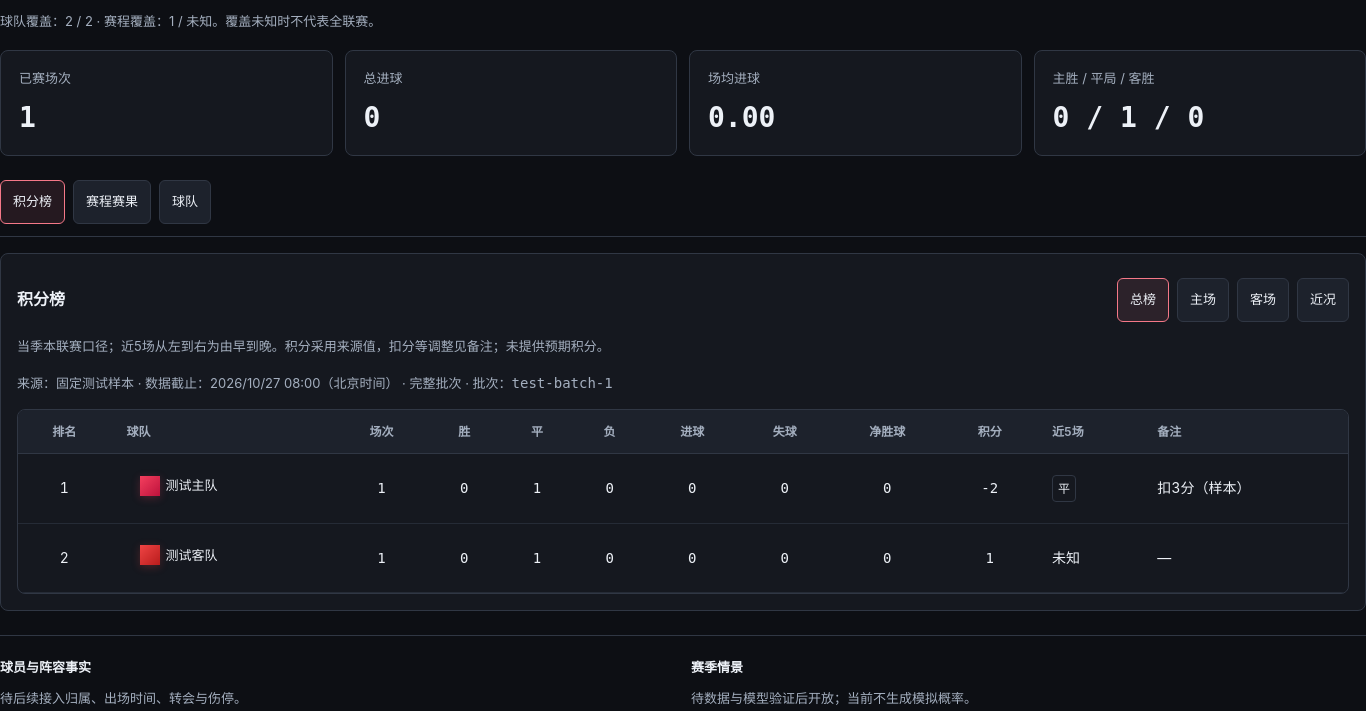
Scenario: LeagueCenter integration (isolated fixed samples only) › opens the same-season team subview and scopes the fixture request
(page scrolled)
Click the button with aria-label "查看球队 测试主队" at point(178, 489), box [126,466,230,511]
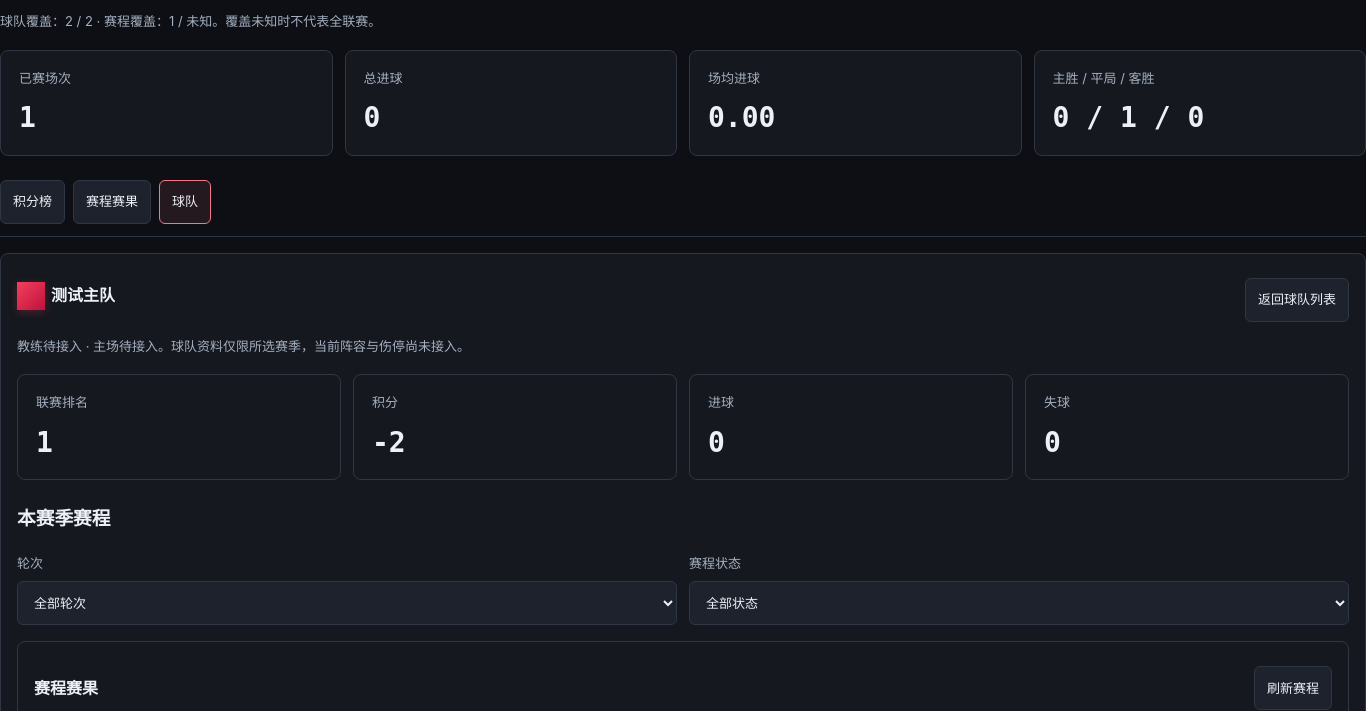
Expected: the text "教练待接入" is shown, [17,338,82,354]
Expected: the heading "测试主队" is shown, [17,282,115,318]
Click the button "返回球队列表" at point(1297, 300), box [1245,278,1349,322]
(page scrolled)
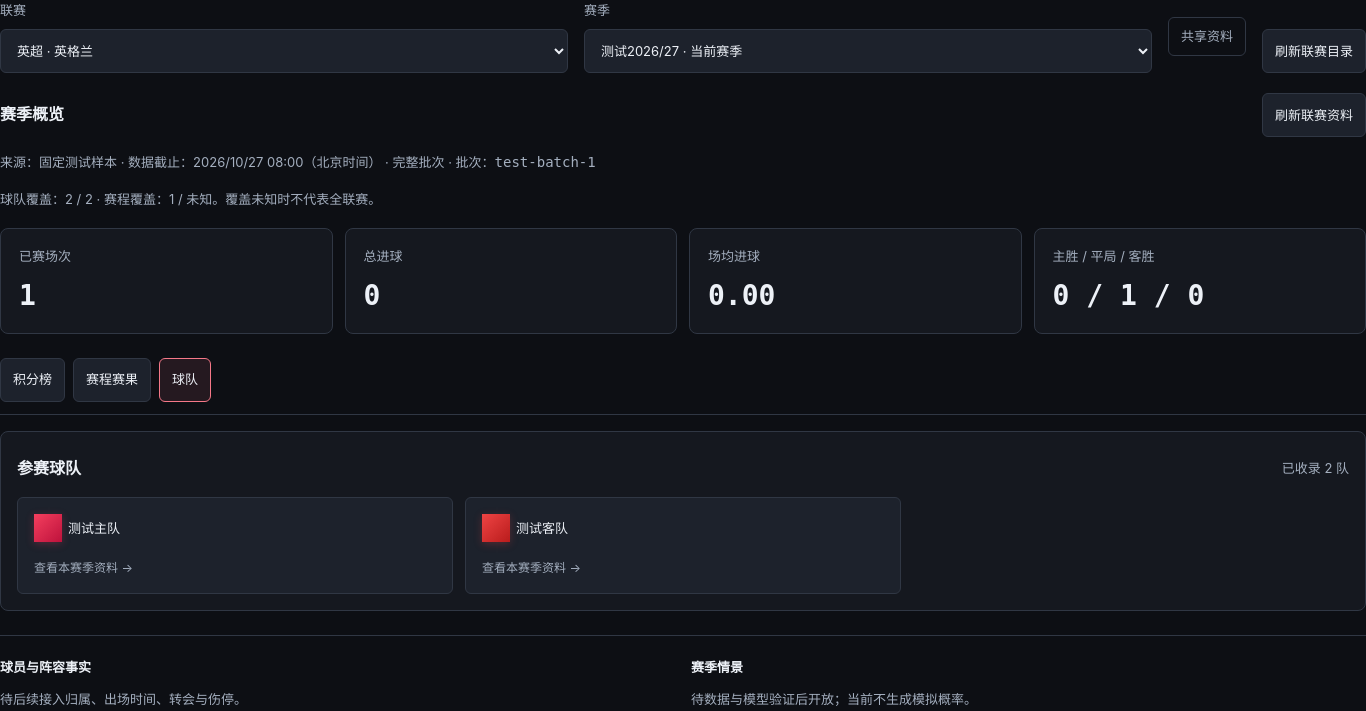
Expected: the button with aria-label "查看球队 测试客队" is shown, [465,497,901,594]
